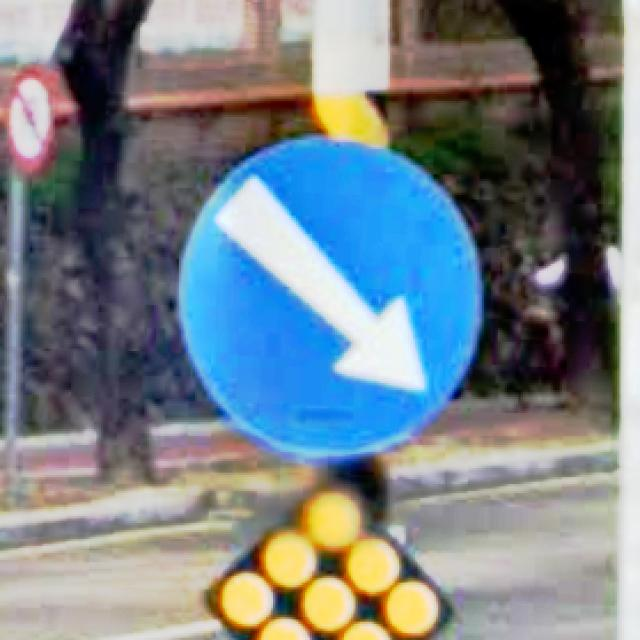thisway: (172, 129, 486, 461)
